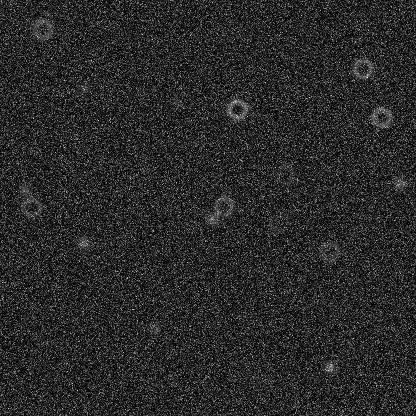Ring: (211, 194, 235, 218), (272, 162, 296, 186), (350, 56, 374, 80), (267, 211, 291, 235), (19, 195, 43, 219), (224, 97, 248, 121), (317, 239, 341, 263), (369, 105, 393, 129), (30, 16, 54, 40), (220, 18, 244, 42)
Spot: (315, 159, 331, 175), (321, 359, 337, 375), (16, 181, 32, 197), (392, 175, 408, 191), (203, 211, 219, 227), (166, 93, 182, 109), (74, 235, 90, 251), (144, 320, 160, 336), (75, 79, 91, 95), (55, 126, 71, 142)
